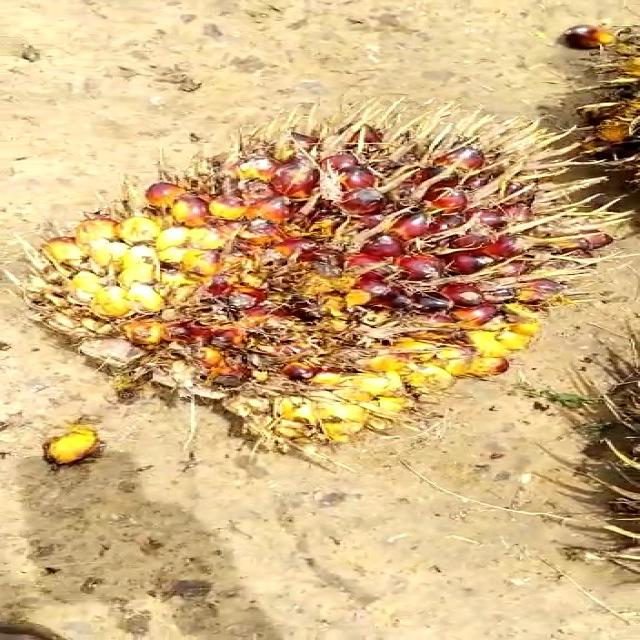palm oil: (34, 119, 604, 454)
